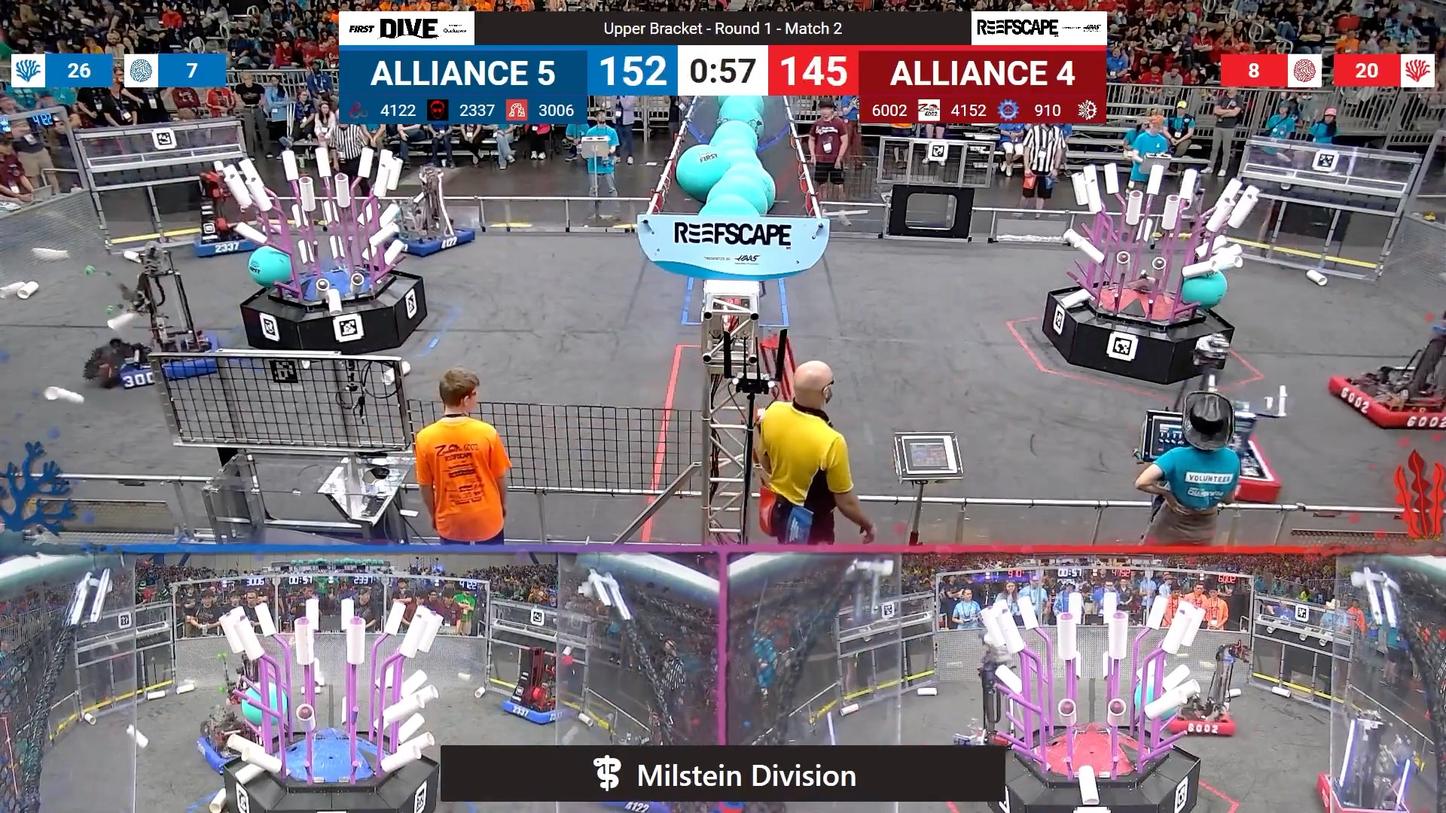bumpers: (1142, 422, 1286, 510), (92, 327, 230, 388), (1319, 368, 1445, 434), (191, 720, 321, 776), (1314, 768, 1414, 812), (381, 222, 482, 260), (1155, 699, 1242, 741), (186, 227, 276, 260), (494, 694, 573, 728)
